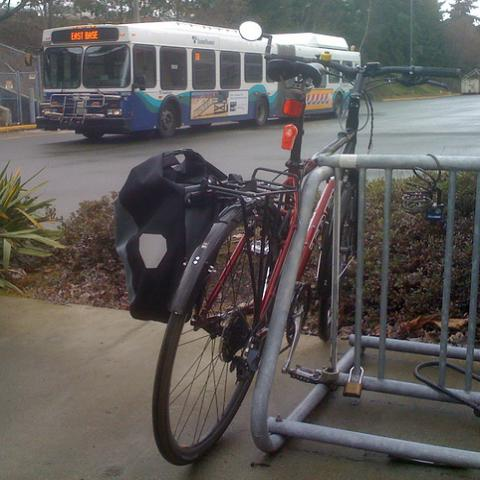bus: (22, 14, 370, 133)
